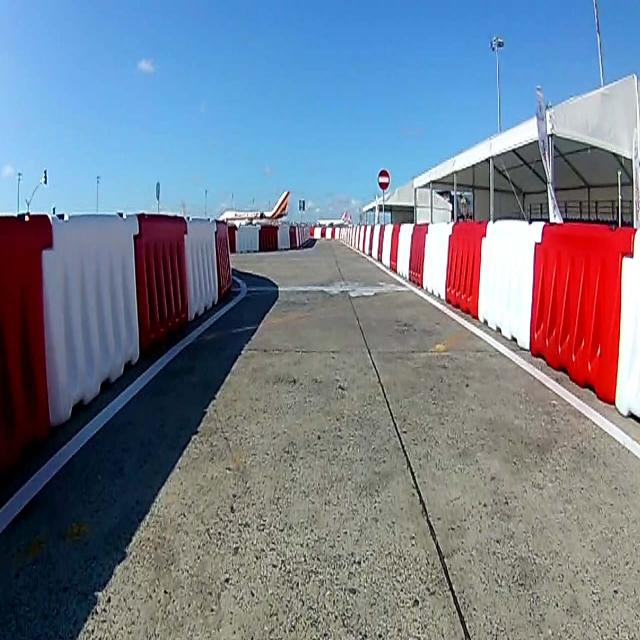girisyok: (377, 169, 391, 191)
